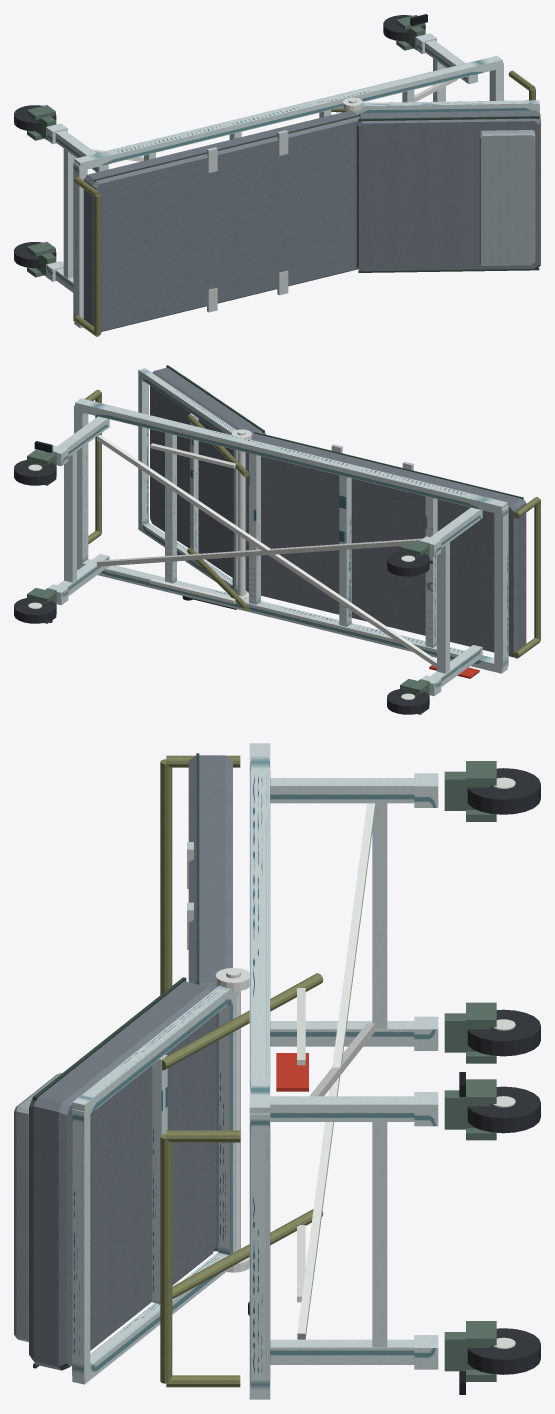
Rendered from PZ_MED_01_Field_Treatment_Cot.glb.
3 views of the same model, one above another, from view 1: azimuth 30°, elevation 25°; view 2: azimuth 150°, elevation 25°; view 3: azimuth 270°, elevation 25° (orthographic). The views are drawn at different scales.
Visible parts, largest first — view 1: COT_Mattress_Fixed_FabricCushion, COT_Backrest_02_MattressCushion, COT_Frame_01_PerimeterAndSlats, COT_Backrest_03_RaisedHeadPillow, COT_Frame_02_FourLegsAndCrossBraces, COT_Backrest_01_TiltFrame, COT_Handles_HeadAndFootPushBars, COT_Stretcher_SecuringStraps, COT_Backrest_04_EdgePiping, COT_Mattress_Fixed_PipingAndStitching, COT_Caster_FOOT_LEFT_Fork, COT_Caster_FOOT_RIGHT_Fork (+4 smaller); view 2: COT_Mattress_Fixed_FabricCushion, COT_Frame_01_PerimeterAndSlats, COT_Backrest_02_MattressCushion, COT_Frame_02_FourLegsAndCrossBraces, COT_Backrest_01_TiltFrame, COT_Frame_03_UnderbedXBracing, COT_Handles_HeadAndFootPushBars, COT_Hinge_ThroughAxleAndBushings, COT_BackAdjustment_NotchedLockingRacks, COT_BackAdjustment_TwinSupportStruts, COT_Caster_HEAD_LEFT_RubberWheel, COT_Caster_FOOT_LEFT_RubberWheel (+3 smaller); view 3: COT_Backrest_02_MattressCushion, COT_Frame_02_FourLegsAndCrossBraces, COT_Backrest_01_TiltFrame, COT_Frame_01_PerimeterAndSlats, COT_Mattress_Fixed_FabricCushion, COT_Handles_HeadAndFootPushBars, COT_Frame_03_UnderbedXBracing, COT_Backrest_03_RaisedHeadPillow, COT_BackAdjustment_TwinSupportStruts, COT_Caster_FOOT_RIGHT_RubberWheel, COT_Caster_FOOT_LEFT_RubberWheel, COT_Caster_HEAD_RIGHT_RubberWheel (+10 smaller).
Part boxes in pixels (left/top/right/bottom): COT_Mattress_Fixed_FabricCushion: left=83, top=110, right=359, bottom=331; COT_Backrest_02_MattressCushion: left=356, top=110, right=540, bottom=271; COT_Frame_01_PerimeterAndSlats: left=73, top=55, right=503, bottom=328; COT_Backrest_03_RaisedHeadPillow: left=479, top=130, right=535, bottom=265; COT_Frame_02_FourLegsAndCrossBraces: left=46, top=33, right=477, bottom=292; COT_Backrest_01_TiltFrame: left=354, top=100, right=539, bottom=114; COT_Handles_HeadAndFootPushBars: left=74, top=70, right=535, bottom=336; COT_Stretcher_SecuringStraps: left=207, top=130, right=288, bottom=312; COT_Backrest_04_EdgePiping: left=358, top=116, right=539, bottom=272; COT_Mattress_Fixed_PipingAndStitching: left=94, top=115, right=360, bottom=331; COT_Caster_FOOT_LEFT_Fork: left=27, top=242, right=56, bottom=277; COT_Caster_FOOT_RIGHT_Fork: left=27, top=105, right=56, bottom=140; COT_Mattress_Fixed_FabricCushion: left=245, top=433, right=526, bottom=657; COT_Frame_01_PerimeterAndSlats: left=74, top=398, right=508, bottom=673; COT_Backrest_02_MattressCushion: left=150, top=367, right=265, bottom=577; COT_Frame_02_FourLegsAndCrossBraces: left=48, top=416, right=482, bottom=696; COT_Backrest_01_TiltFrame: left=138, top=368, right=237, bottom=594; COT_Frame_03_UnderbedXBracing: left=96, top=434, right=436, bottom=667; COT_Handles_HeadAndFootPushBars: left=85, top=389, right=540, bottom=658; COT_Hinge_ThroughAxleAndBushings: left=231, top=429, right=251, bottom=597; COT_BackAdjustment_NotchedLockingRacks: left=150, top=443, right=235, bottom=603; COT_BackAdjustment_TwinSupportStruts: left=187, top=414, right=249, bottom=611; COT_Caster_HEAD_LEFT_RubberWheel: left=14, top=598, right=56, bottom=623; COT_Caster_FOOT_LEFT_RubberWheel: left=387, top=689, right=429, bottom=714; COT_Backrest_02_MattressCushion: left=29, top=981, right=215, bottom=1370; COT_Frame_02_FourLegsAndCrossBraces: left=270, top=773, right=438, bottom=1369; COT_Backrest_01_TiltFrame: left=72, top=985, right=238, bottom=1384; COT_Frame_01_PerimeterAndSlats: left=249, top=743, right=270, bottom=1399; COT_Mattress_Fixed_FabricCushion: left=188, top=755, right=232, bottom=1251; COT_Handles_HeadAndFootPushBars: left=160, top=755, right=240, bottom=1387; COT_Frame_03_UnderbedXBracing: left=297, top=803, right=375, bottom=1339; COT_Backrest_03_RaisedHeadPillow: left=14, top=1073, right=61, bottom=1341; COT_BackAdjustment_TwinSupportStruts: left=162, top=973, right=323, bottom=1299; COT_Caster_FOOT_RIGHT_RubberWheel: left=467, top=768, right=540, bottom=814; COT_Caster_FOOT_LEFT_RubberWheel: left=467, top=1009, right=540, bottom=1056; COT_Caster_HEAD_RIGHT_RubberWheel: left=467, top=1086, right=540, bottom=1133.
Size of the model in its own units: 2.06 by 0.784 by 1.21.
1 material, 1 textured.
